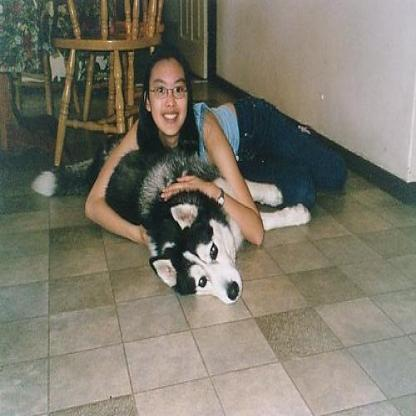Siberian_husky: (29, 150, 313, 301)
